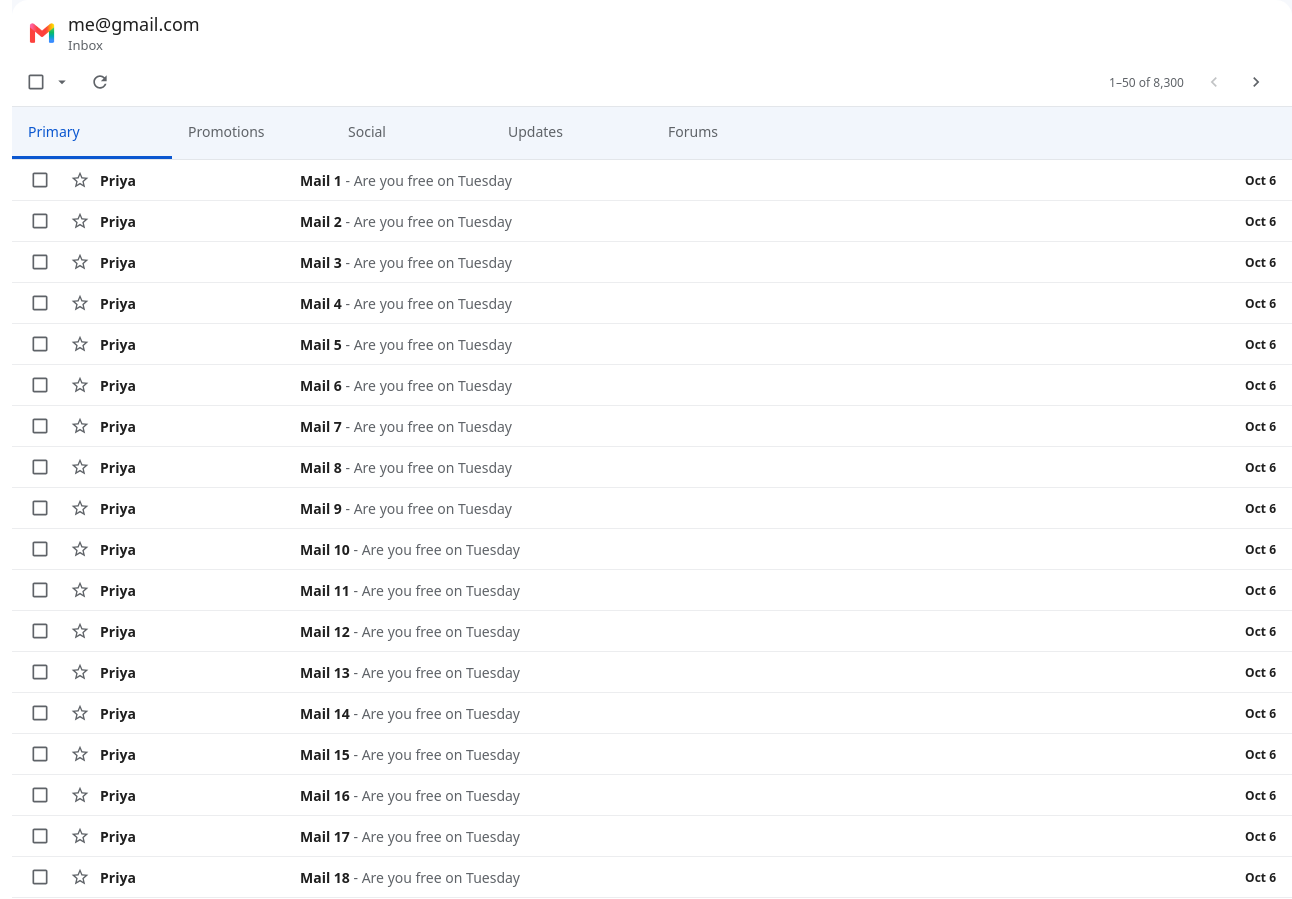
Test case: AccountMailbox › opens an already stored page without asking the server
Expected: the text "Mail 1" is shown, [300,170,342,190]
What coordinates should you click on to do the following:
click the button named "Older"
I would click on:
 (1256, 82)
Its box is [1236,62,1276,102].
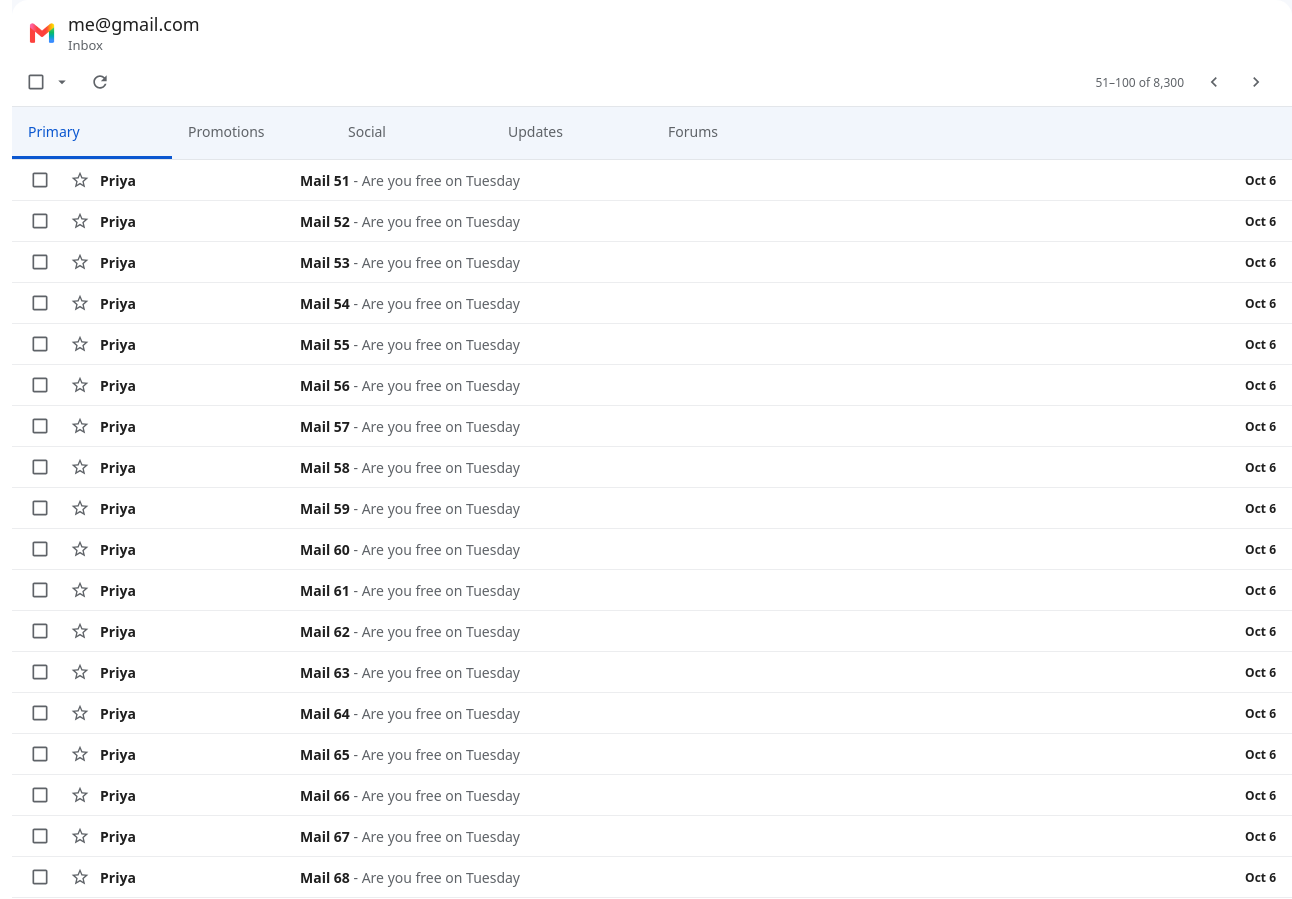
Expected: the text "51–100 of 8,300" is shown, [1095,74,1184,90]
